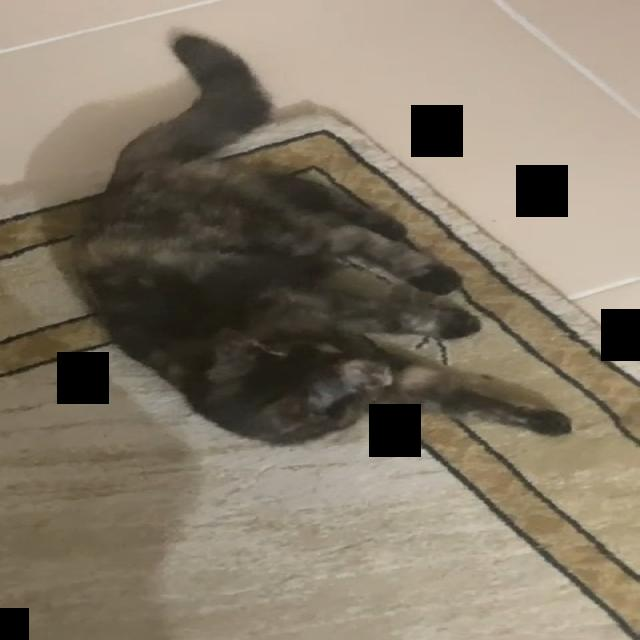authorized: (56, 26, 573, 447)
